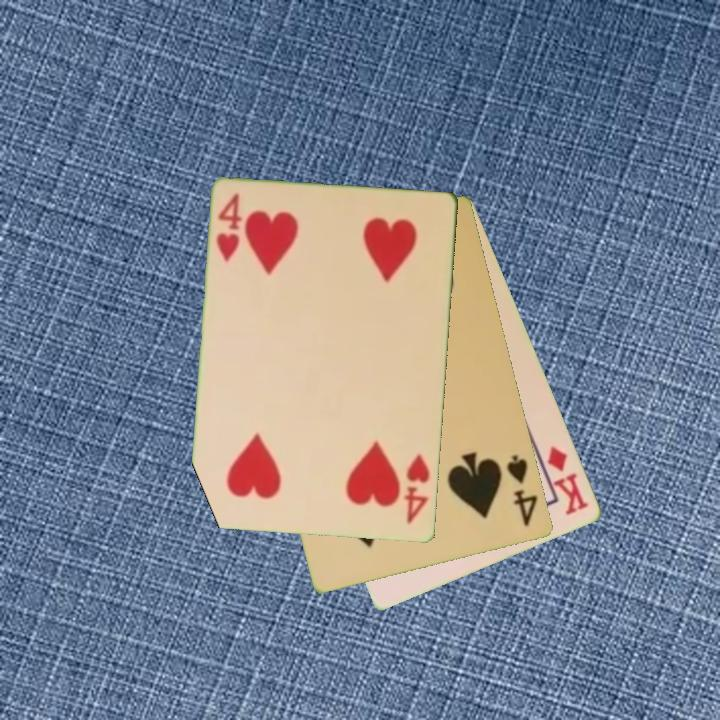4h: (401, 451, 433, 528), (213, 190, 245, 264)
4s: (503, 451, 541, 530)
Kd: (535, 442, 592, 518)
